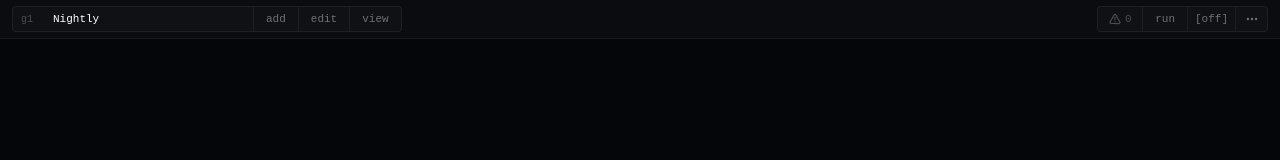
Test: the view menu › is closed until the button is pressed
Click the button "view": (375, 19) [350, 7, 401, 31]
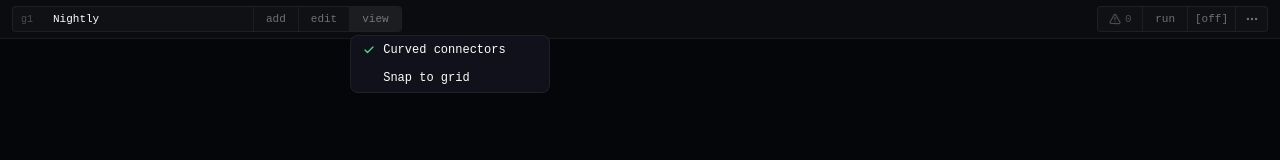
Expected: the switch labelled "Curved connectors" is shown, [351, 36, 549, 64]
